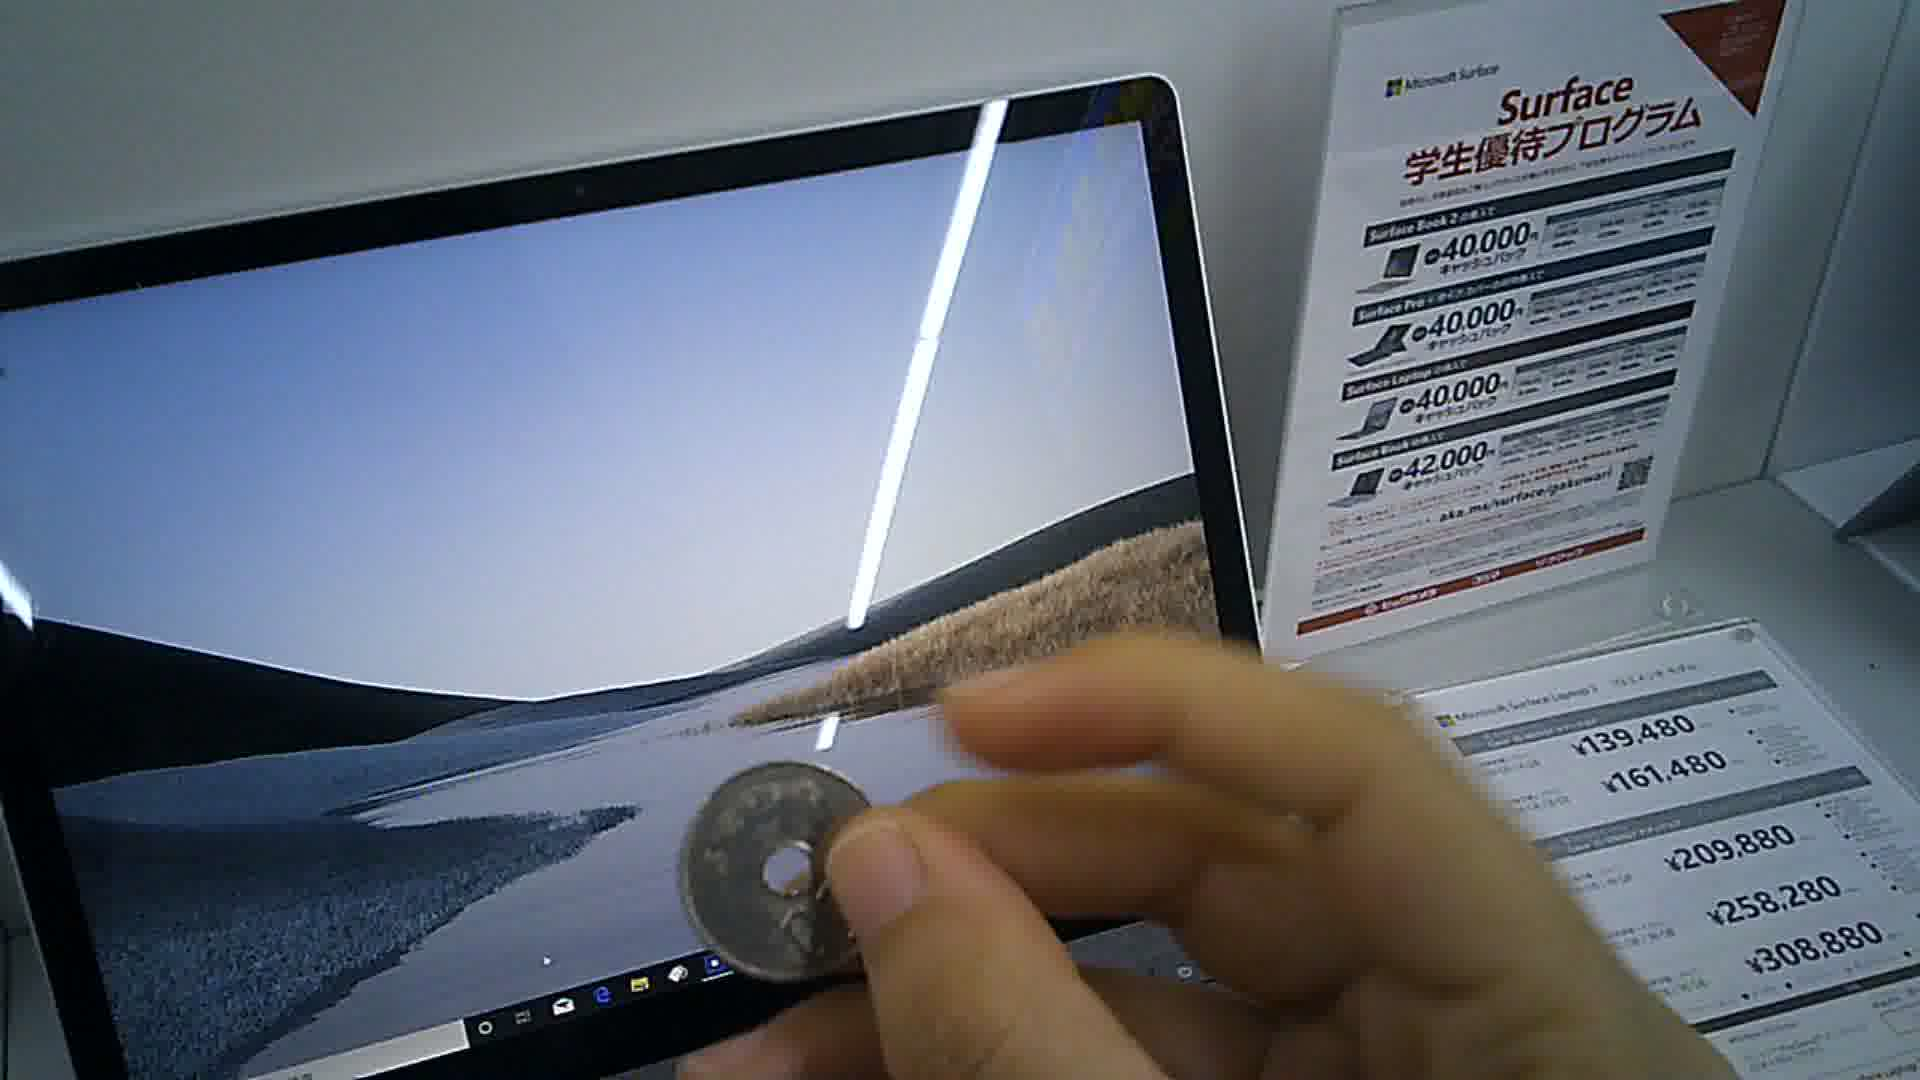50 Yen: (669, 758, 895, 982)
